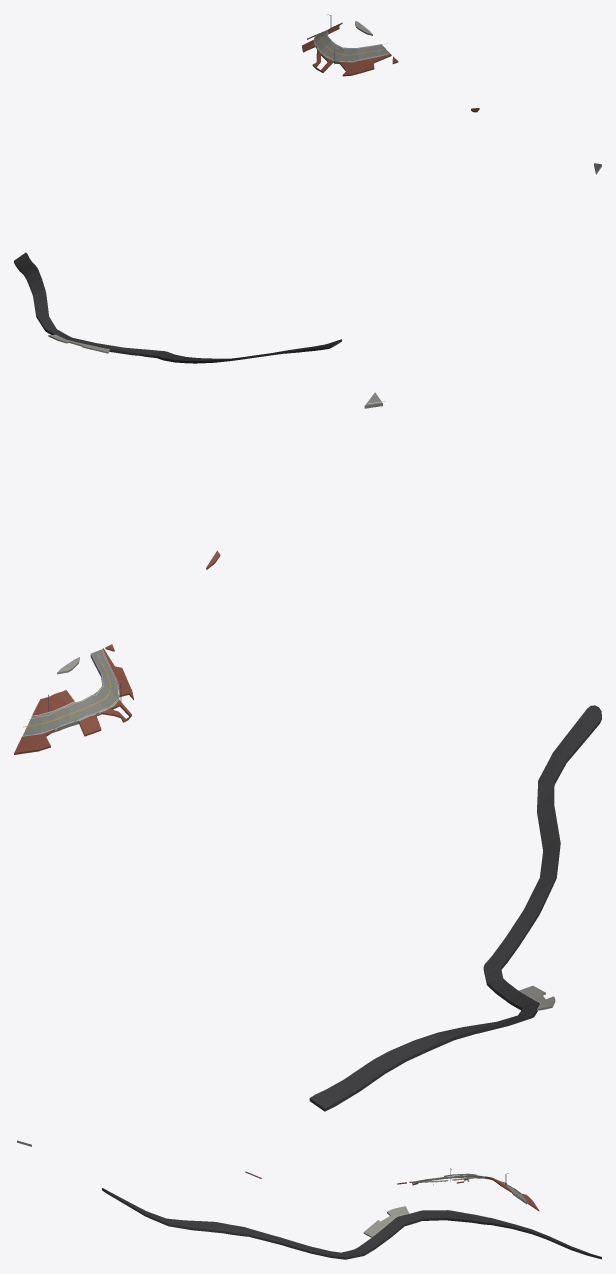
Rendered from 17-109468-59484.bfba12c6.glb.
3 views of the same model, one above another, from view 1: azimuth 30°, elevation 25°; view 2: azimuth 150°, elevation 25°; view 3: azimuth 270°, elevation 25° (orthographic). The views are drawn at different scales.
Size of the model in its own units: 188 by 134 by 293.
